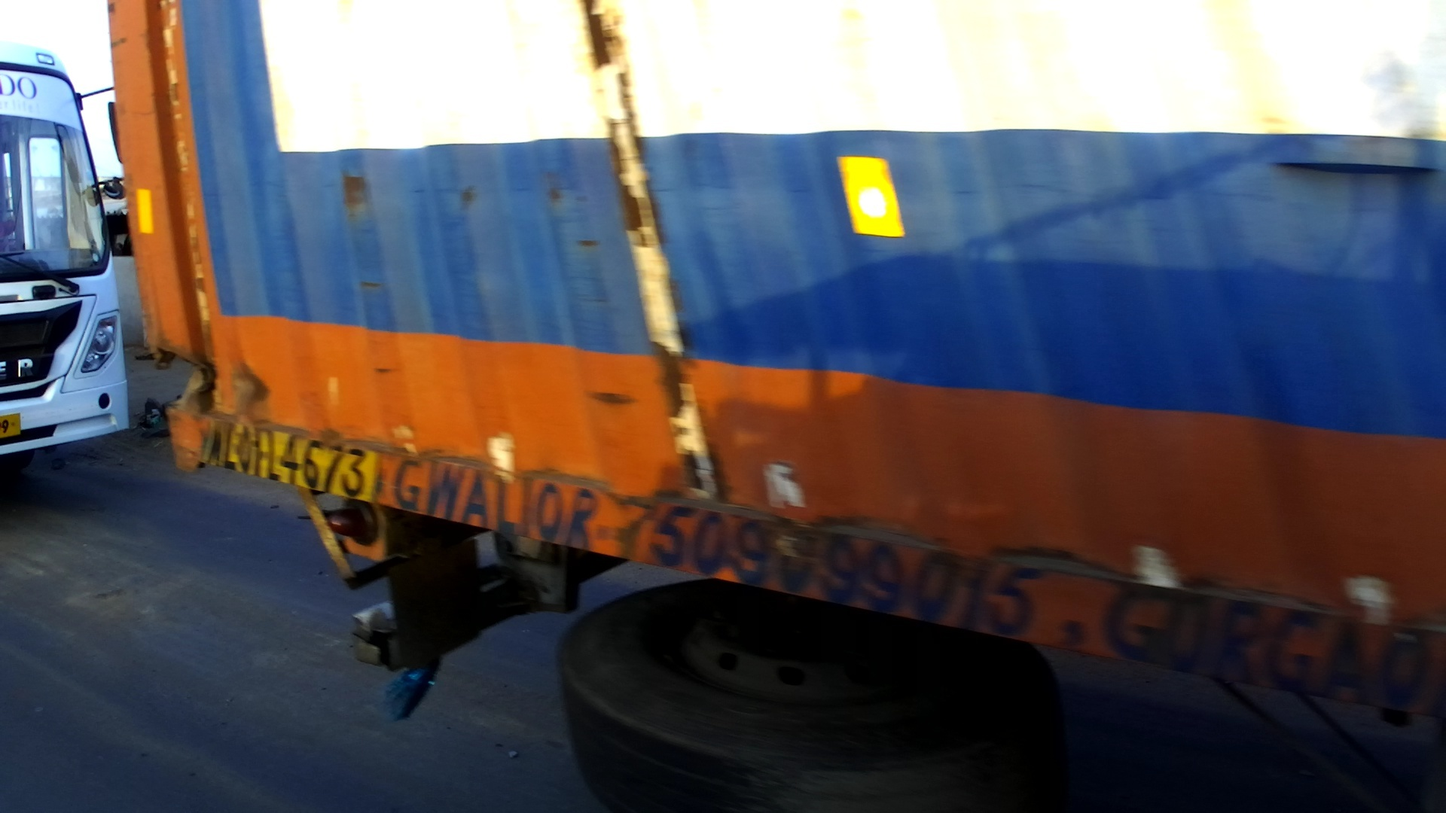bus: (1, 44, 133, 492)
truck: (105, 1, 1446, 813)
